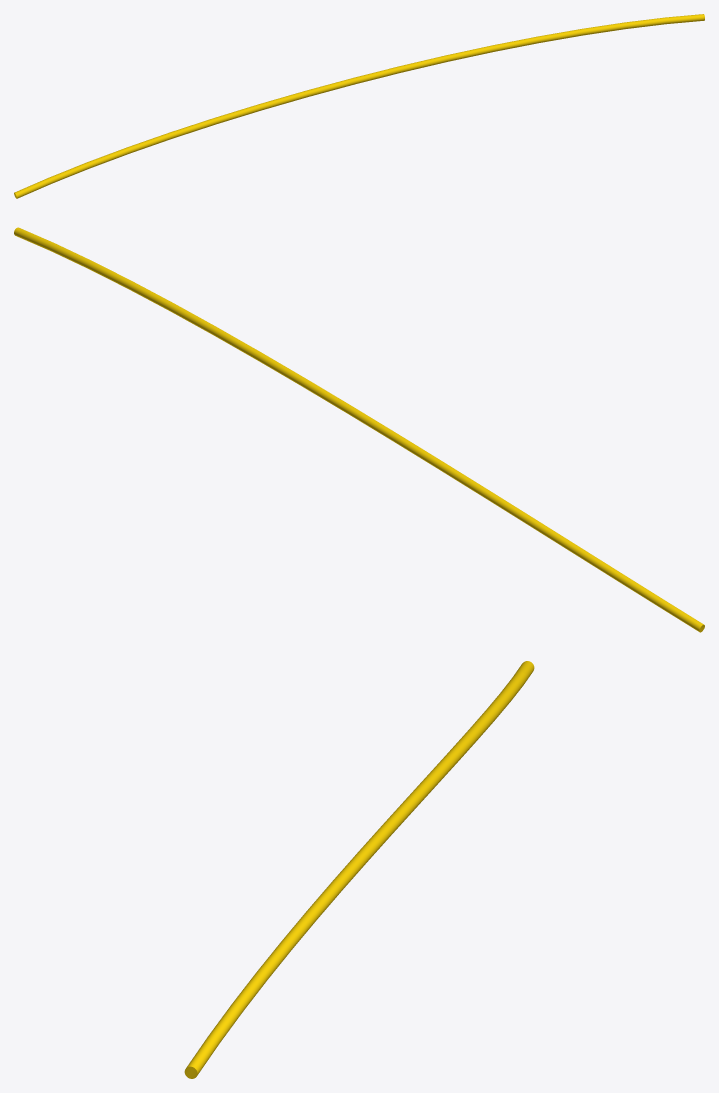
Rendered from Event_421115418_track_197.fbx.
3 views of the same model, one above another, from view 1: azimuth 30°, elevation 25°; view 2: azimuth 150°, elevation 25°; view 3: azimuth 270°, elevation 25° (orthographic). The views are drawn at different scales.
Visible parts, largest first — view 1: Model; view 2: Model; view 3: Model.
Part boxes in pixels (x1,y1,x2,y2): Model: (14, 14, 704, 198); Model: (14, 227, 704, 632); Model: (184, 661, 534, 1078).
Size of the model in its own units: 4.12 by 0.6425 by 1.03.
